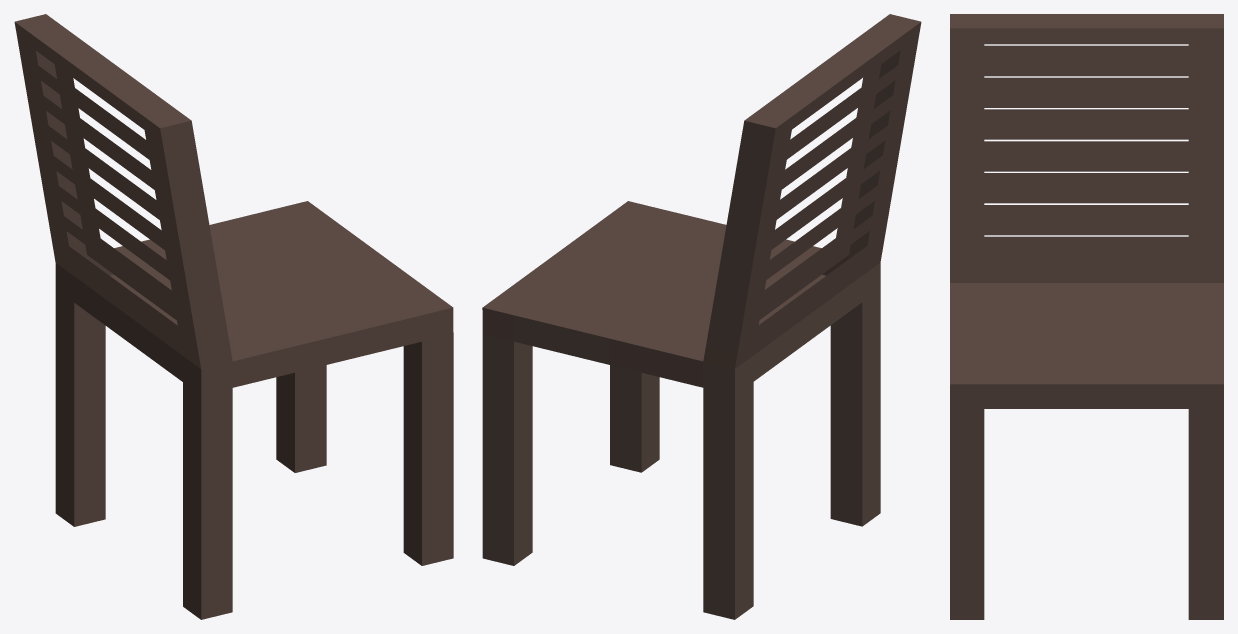
Rendered from chair.fbx.
3 views of the same model, side by side, from view 1: azimuth 30°, elevation 25°; view 2: azimuth 150°, elevation 25°; view 3: azimuth 270°, elevation 25° (orthographic). The views are drawn at different scales.
Visible parts, largest first — view 1: Cube; view 2: Cube; view 3: Cube.
Part boxes in pixels (x1,y1,x2,y2): Cube: [14, 14, 453, 619]; Cube: [482, 14, 921, 619]; Cube: [950, 14, 1223, 619].
Size of the model in its own units: 52.31 by 85.5 by 45.02.
